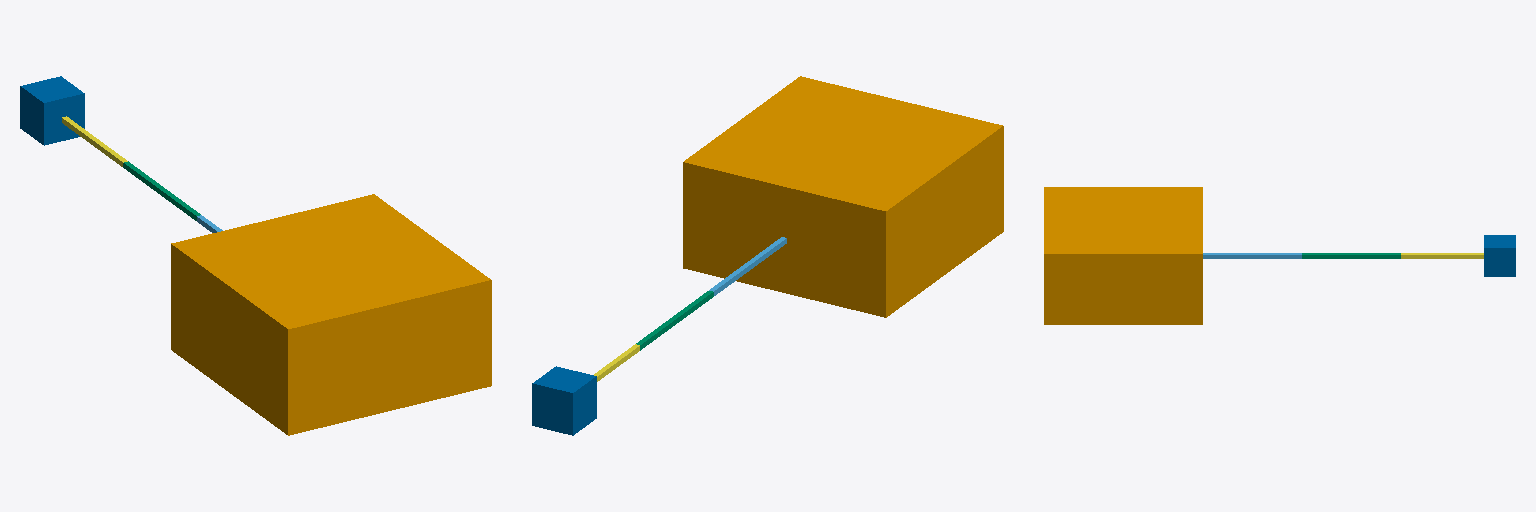
The robot description file, URDF, robot "aerial_manipulator_drone":
<?xml version="1.0"?>
<robot name="aerial_manipulator_drone">

    <link name="base_link">

        <visual>
            <geometry>
                <box size="0.4 0.4 0.2"/>
            </geometry>
<!--            <geometry>-->
<!--                <mesh filename="test_robots/meshes/drone.dae"/>-->
<!--            </geometry>-->
            <origin xyz="0.0 0.0 0.0"/>
        </visual>

        <collision>
            <geometry>
                <box size="0.4 0.4 0.2"/>
            </geometry>
        </collision>

    </link>

    <joint name="arm_hinge" type="revolute">
        <parent link="base_link"/>
        <child link="arm"/>
        <origin xyz="0.0 0.2 0.0"/>
        <axis xyz="1 0 0"/>
        <limit effort="1000.0" lower="-1.0" upper="1.0" velocity="0.5"/>
    </joint>

    <link name="arm">
        <visual>
            <geometry>
                <box size="0.01 0.25 0.01"/>
            </geometry>
            <origin xyz="0.0 0.125 0.0"/>
        </visual>

        <collision>
            <geometry>
                <box size="0.01 0.25 0.01"/>
            </geometry>
            <origin xyz="0.0 0.125 0.0"/>
        </collision>
    </link>

    <joint name="arm2_hinge" type="revolute">
        <parent link="arm"/>
        <child link="arm2"/>
        <origin xyz="0.0 0.25 0.0"/>
        <axis xyz="0 0 1"/>
        <limit effort="1000.0" lower="-1.0" upper="1.0" velocity="0.5"/>
    </joint>

    <link name="arm2">
        <visual>
            <geometry>
                <box size="0.01 0.25 0.01"/>
            </geometry>
            <origin xyz="0.0 0.125 0.0"/>
        </visual>

        <collision>
            <geometry>
                <box size="0.01 0.25 0.01"/>
            </geometry>
            <origin xyz="0.0 0.125 0.0"/>
        </collision>
    </link>

    <joint name="arm3_hinge" type="revolute">
        <parent link="arm2"/>
        <child link="arm3"/>
        <origin xyz="0.0 0.25 0.0"/>
        <axis xyz="1 0 0"/>
        <limit effort="1000.0" lower="-1.0" upper="1.0" velocity="0.5"/>
    </joint>

    <link name="arm3">
        <visual>
            <geometry>
                <box size="0.01 0.25 0.01"/>
            </geometry>
            <origin xyz="0.0 0.125 0.0"/>
        </visual>

        <collision>
            <geometry>
                <box size="0.01 0.25 0.01"/>
            </geometry>
            <origin xyz="0.0 0.125 0.0"/>
        </collision>
    </link>


    <joint name="end_effector_joint" type="continuous">
        <parent link="arm3"/>
        <child link="end_effector"/>
        <origin xyz="0.0 0.25 0.0"/>
        <axis xyz="0 1 0"/>
    </joint>

    <link name="end_effector">
        <visual>
            <geometry>
                <box size="0.08 0.08 0.08"/>
            </geometry>
        </visual>

<!--        <collision>-->
<!--            <geometry>-->
<!--                <box size="0.1 0.1 0.1"/>-->
<!--            </geometry>-->
<!--        </collision>-->
    </link>


</robot>

--- What the picture shows (computed from the rendered views, not written in the file) ---
The picture shows the robot from 3 angles, left to right: view 1: azimuth 30°, elevation 25°; view 2: azimuth 150°, elevation 25°; view 3: azimuth 270°, elevation 25°; orthographic projection.
Model aerial_manipulator_drone with 5 links and 4 joints (3 revolute, 1 continuous), rooted at base_link, posed every joint at zero.
Visible links, largest first — view 1: base_link, end_effector, arm2, arm3; view 2: base_link, end_effector, arm2, arm; view 3: base_link, end_effector, arm, arm2.
Boxes of the visible links, x1,y1,x2,y2 form: base_link: (171,194,491,435); end_effector: (20,76,84,145); arm2: (123,161,200,220); arm3: (62,116,127,166); base_link: (683,76,1003,317); end_effector: (532,366,596,435); arm2: (636,291,713,350); arm: (709,237,786,295); base_link: (1044,187,1202,324); end_effector: (1484,235,1515,276); arm: (1203,253,1301,258); arm2: (1302,253,1400,258).
Size in the robot's own frame: 0.4 by 1.19 by 0.2 metres.
Geometry: primitives only (box / cylinder / sphere), no mesh files.